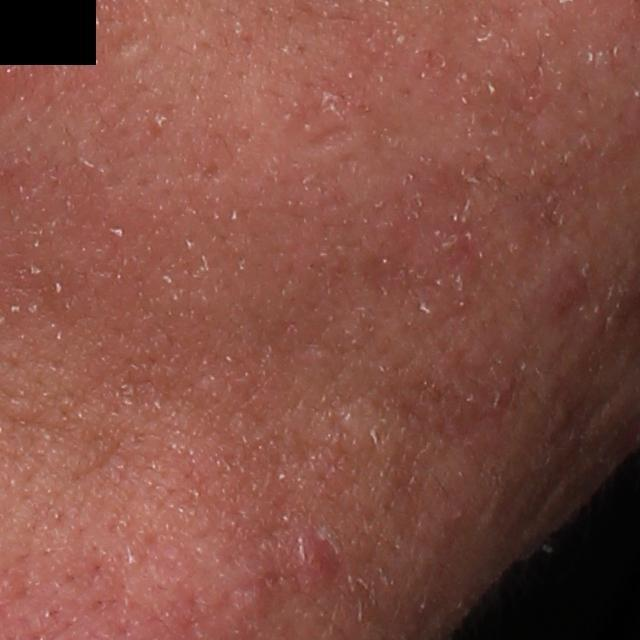atrophic_scar: (303, 128, 353, 151)
papule: (548, 260, 595, 312)
